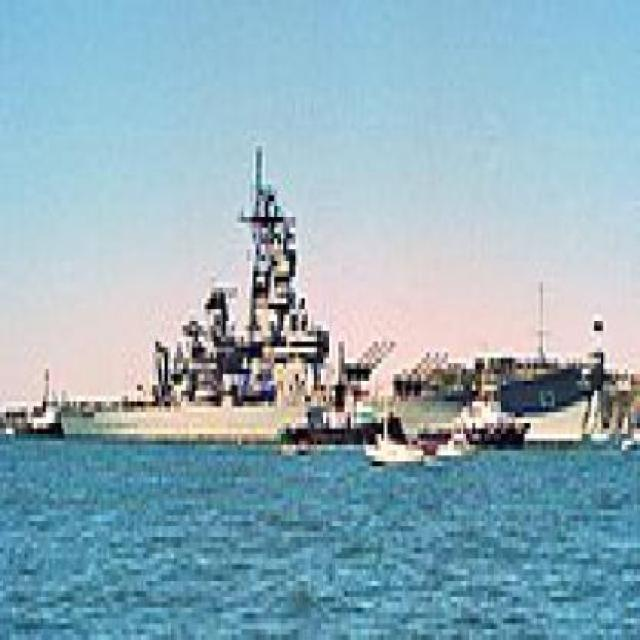warship2: (59, 137, 620, 457)
